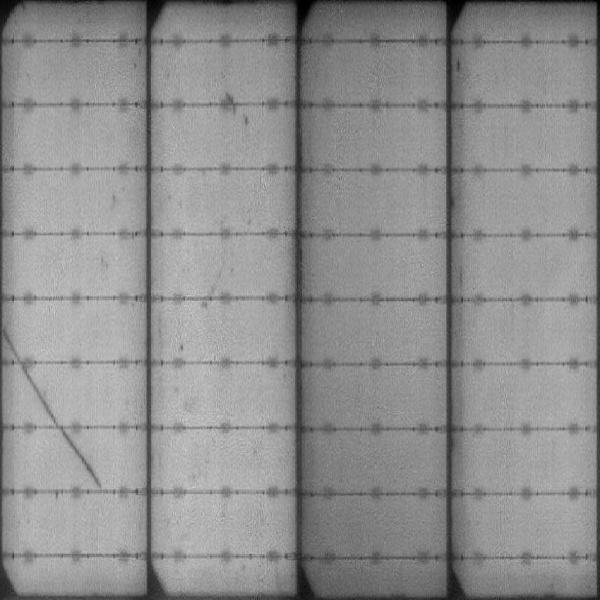scratch: (19, 367, 65, 424), (57, 429, 101, 487), (1, 323, 35, 359)
